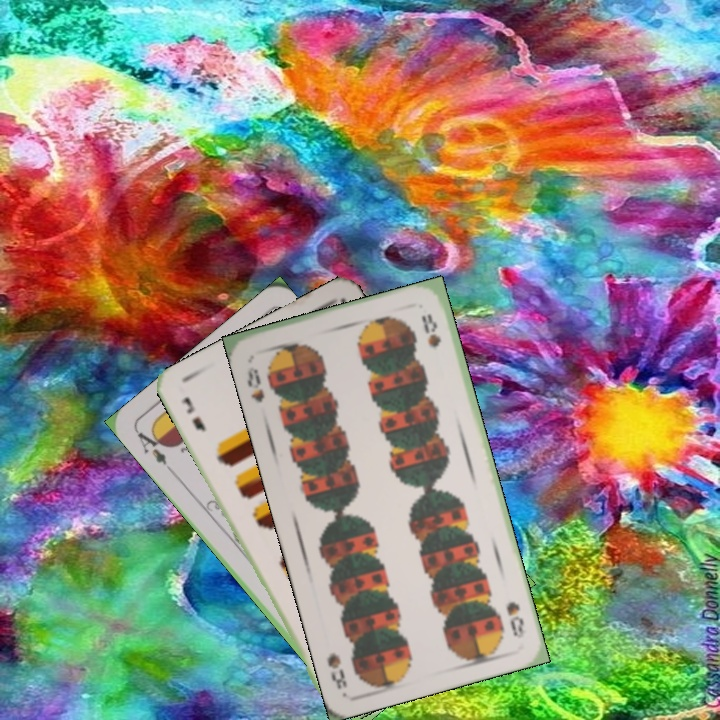E7: (177, 393, 209, 435)
EA: (133, 425, 170, 467)
S8: (502, 597, 527, 641), (243, 363, 267, 406)
